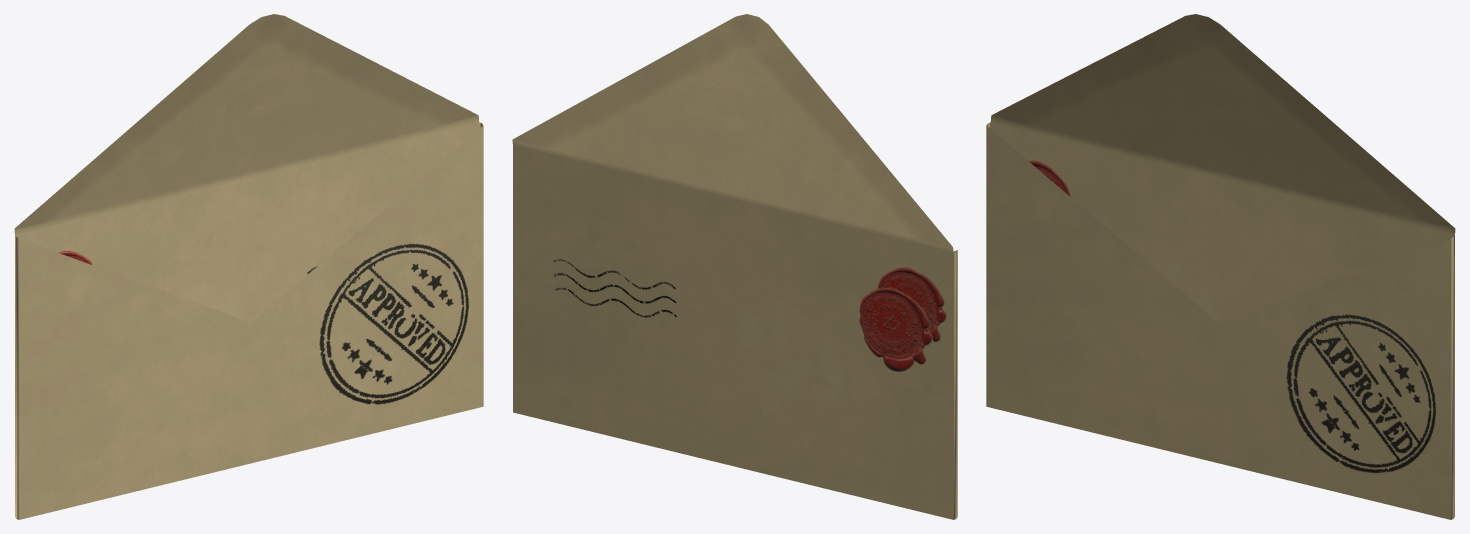
3 views of the same model, side by side, from view 1: azimuth 30°, elevation 25°; view 2: azimuth 150°, elevation 25°; view 3: azimuth 330°, elevation 25° (orthographic). The views are drawn at different scales.
Visible parts, largest first — view 1: SM_Envelope; view 2: SM_Envelope; view 3: SM_Envelope.
Boxes of the visible parts, left/top/right/bottom form: SM_Envelope: left=14, top=14, right=483, bottom=519; SM_Envelope: left=512, top=14, right=957, bottom=519; SM_Envelope: left=986, top=14, right=1455, bottom=519.
Bounding box in the file's own units: 2 × 1.89 × 0.1576.
Materials: 1 (1 with a texture image).
